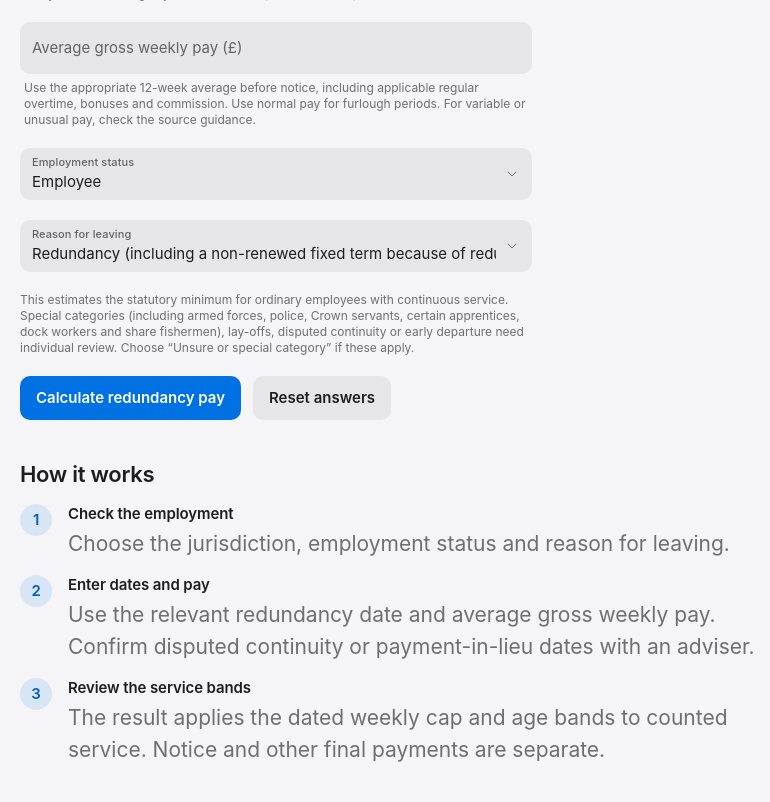
Test: redundancy pay calculator page › requires weekly pay instead of silently interpreting blank as zero
(page scrolled)
Click the button "Calculate redundancy pay" at (130, 398), box [20,376,241,420]
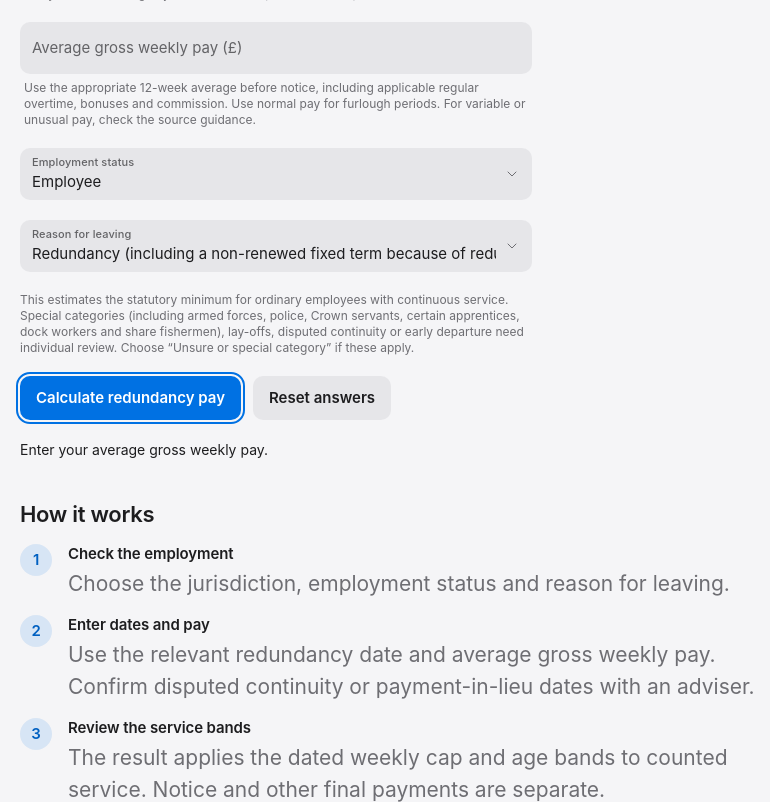
Expected: the message reads "Enter your average gross weekly pay.", [20,441,268,458]
